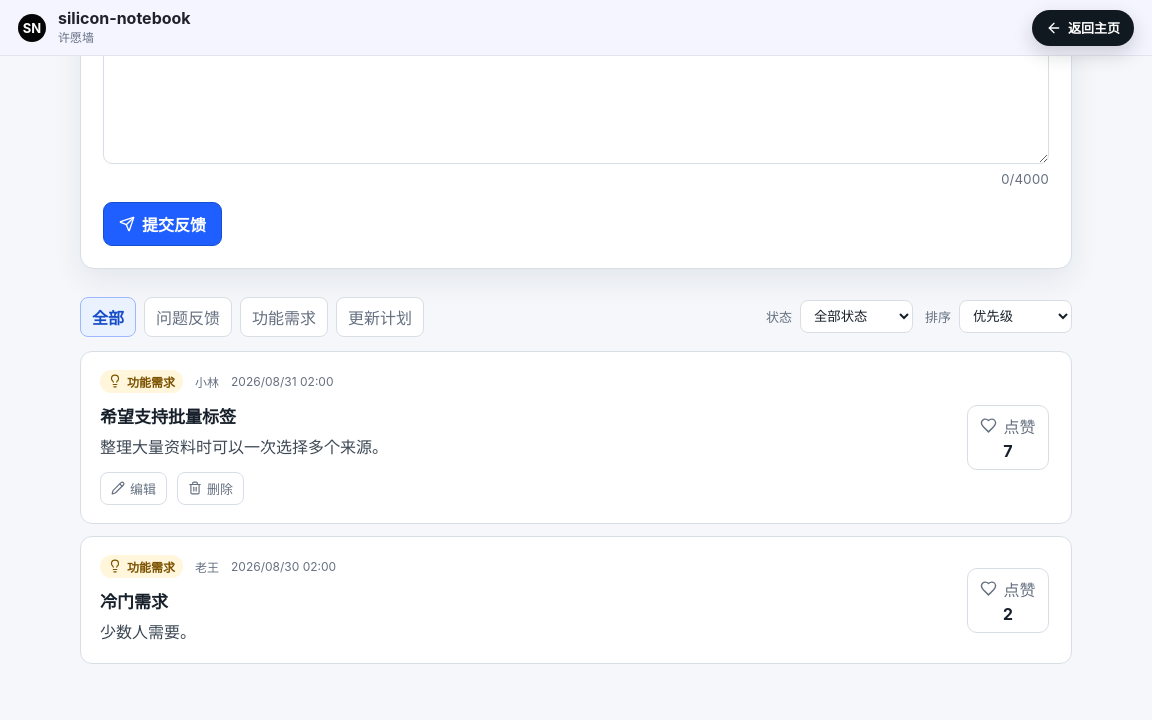
Test: 删除失败时卡片保留并在动作旁给出错误
(page scrolled)
Expected: the text "希望支持批量标签" is shown, [100,407,236,427]
Step 1. Click the button "删除" → point(210, 488), box [177,472,244,505]
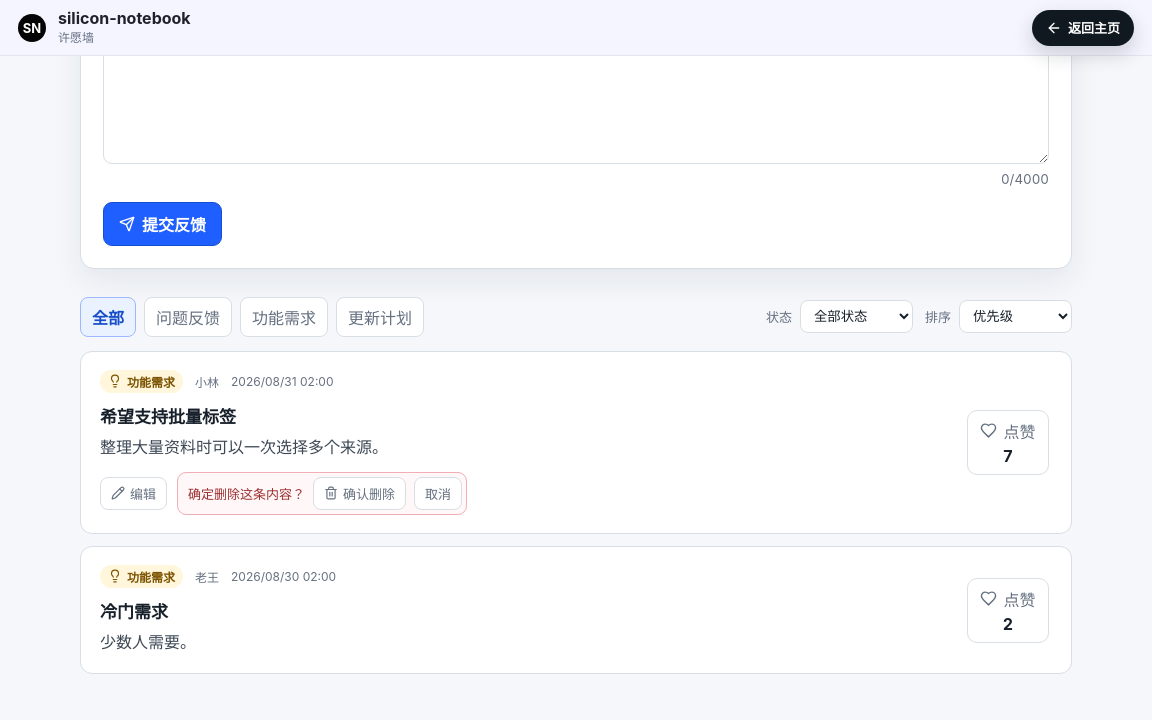
Step 2. Click the button "确认删除" → point(360, 494), box [313,477,406,510]
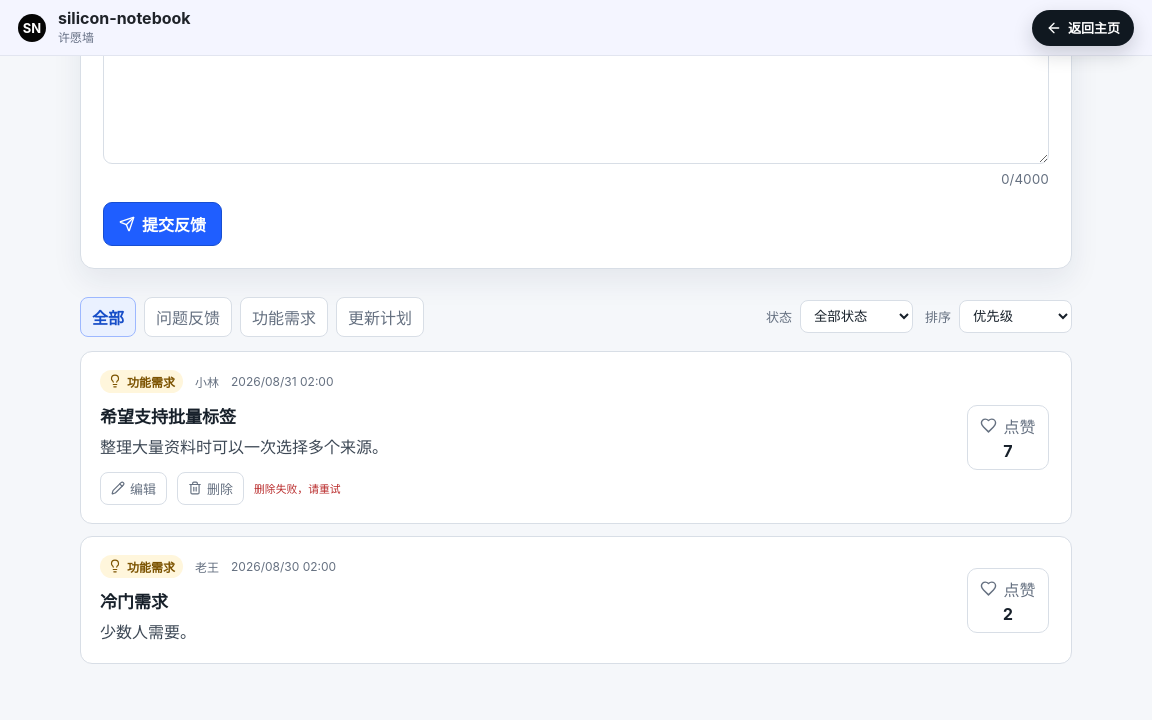
Expected: the heading "希望支持批量标签" is shown, [100,407,236,427]
Expected: the message reads "删除失败，请重试", [254,484,341,496]
